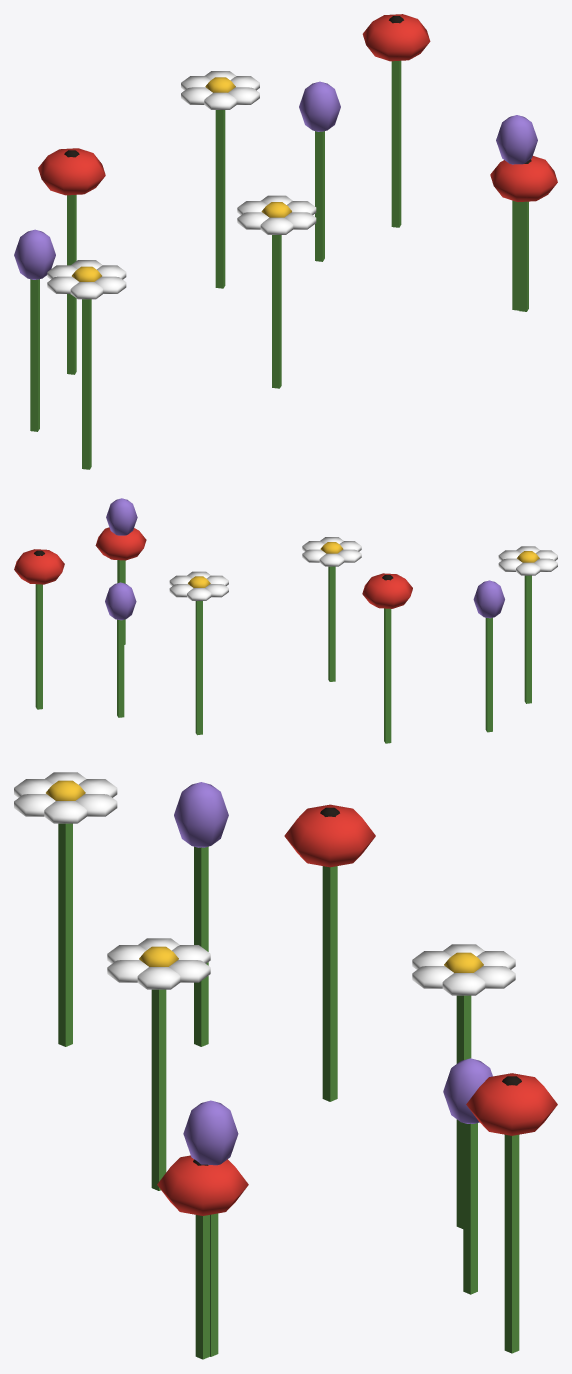
Rendered from flowers.glb.
The picture shows the model from 3 angles, top to bottom: view 1: azimuth 30°, elevation 25°; view 2: azimuth 150°, elevation 25°; view 3: azimuth 270°, elevation 25°; orthographic projection. The views are drawn at different scales.
Visible parts, largest first — view 1: Flowers; view 2: Flowers; view 3: Flowers.
Boxes of the visible parts, x1,y1,x2,y2 form: Flowers: (14, 14, 557, 469); Flowers: (14, 498, 557, 743); Flowers: (14, 772, 557, 1359).
Bounding box in the file's own units: 0.9125 × 0.3498 × 0.5921.
